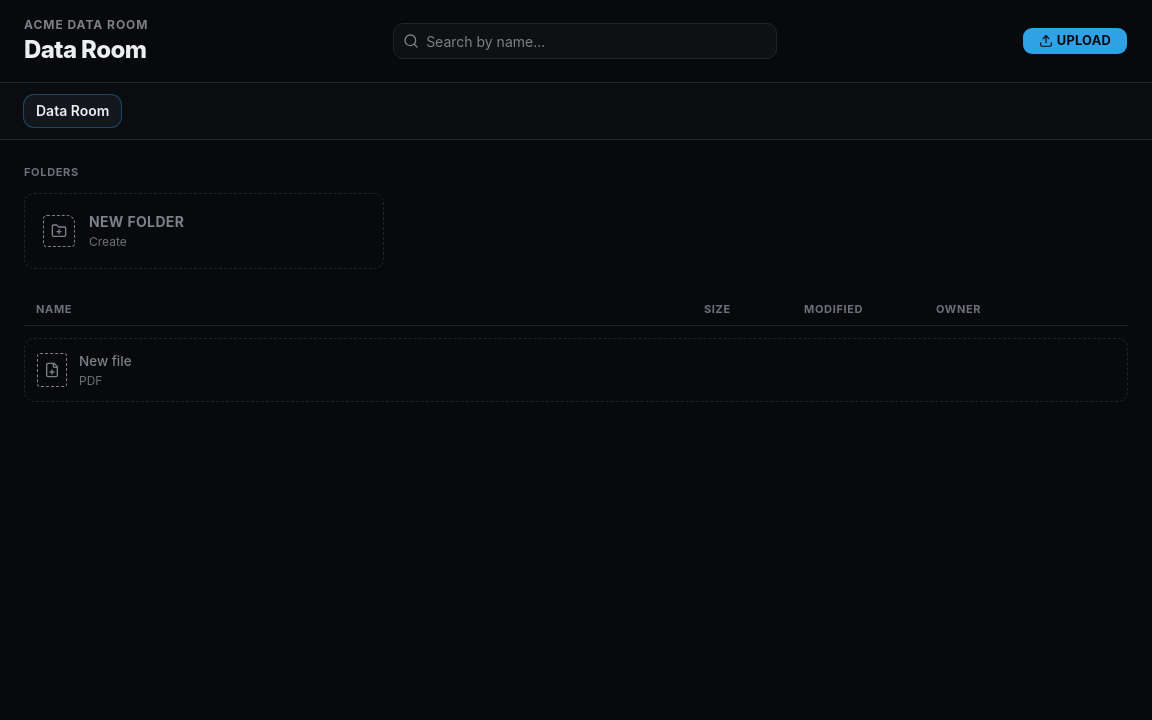
Test: DataRoomPage › creates a folder, navigates into it, and updates the breadcrumb
Click the button "New folder Create" at (59, 230), box [24,192,384,268]
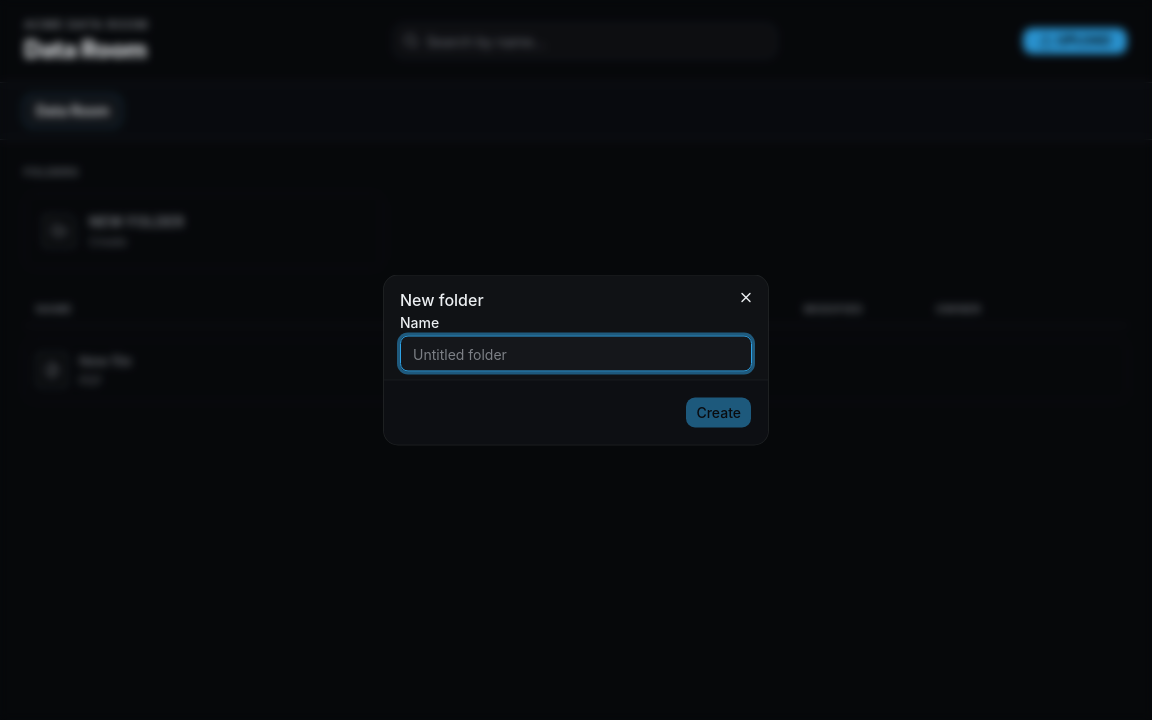
Type "Contracts" into the field labelled "Name" at (576, 354), box [400,336,752,372]
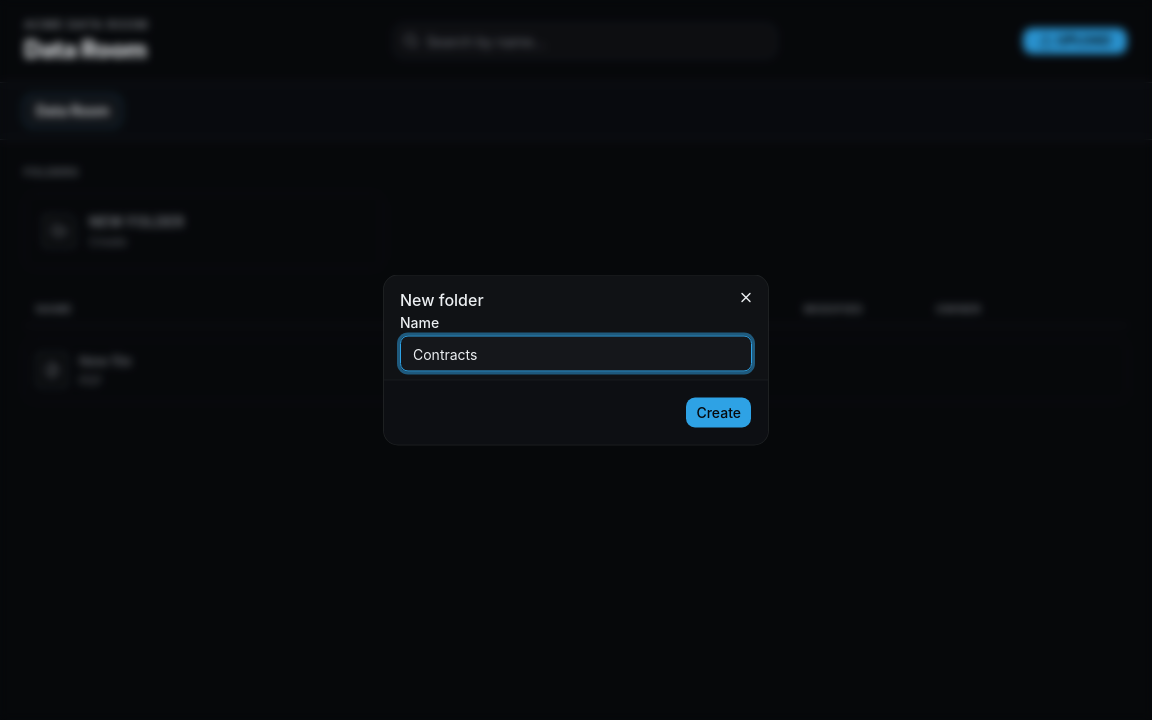
Click the button "Create" at (719, 412), box [685,396,752,428]
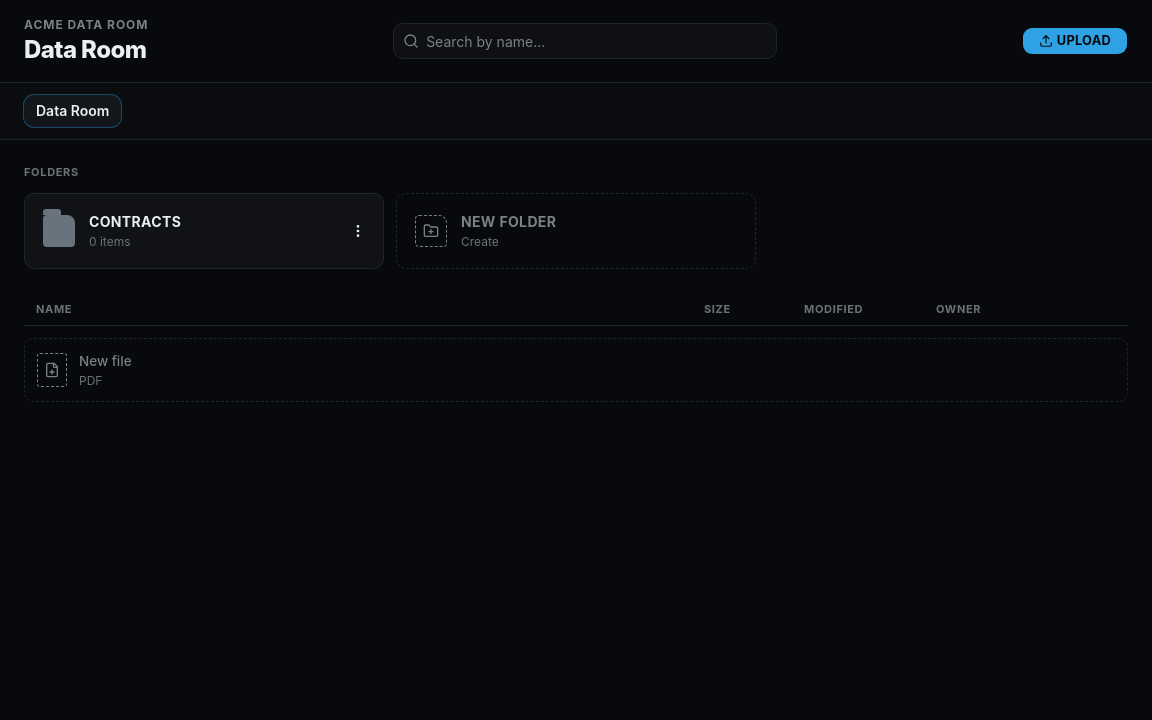
Click the link "Contracts 0 items" at (112, 230), box [43,212,181,248]
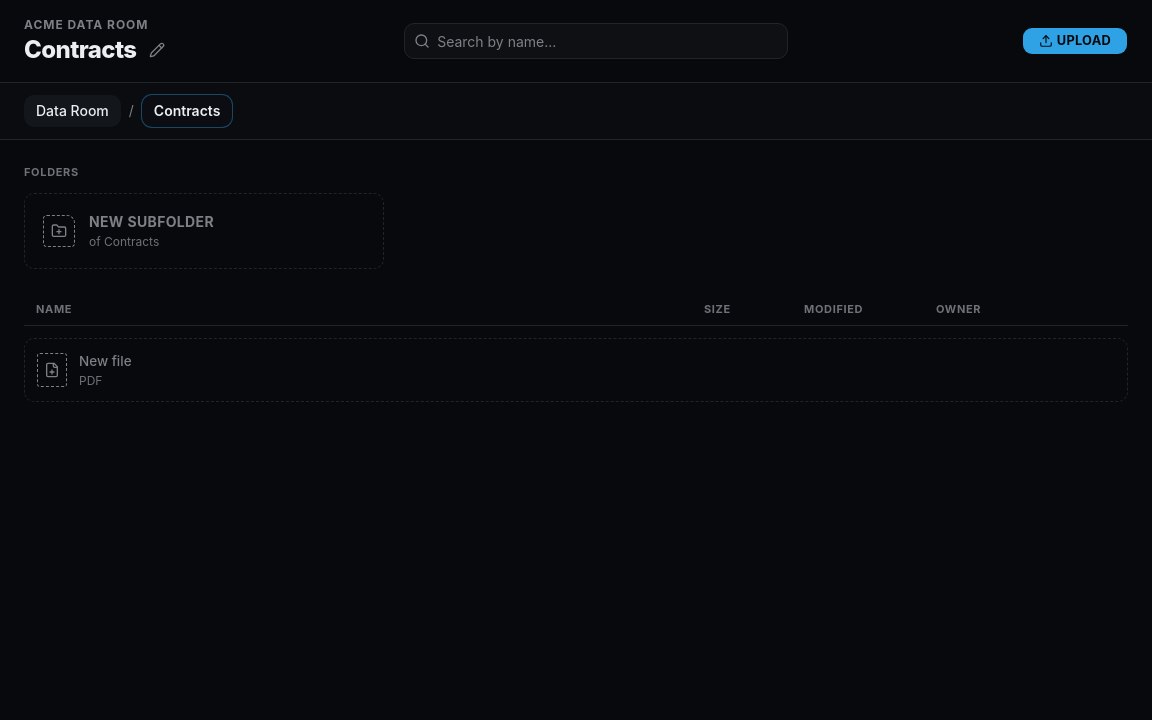
Expected: the link "Data Room" is shown, [24,95,121,127]
Now the button "New subfolder of Contracts" is shown, box [24,192,384,268]
Now the text "Contracts" is shown, box [142,95,232,127]
